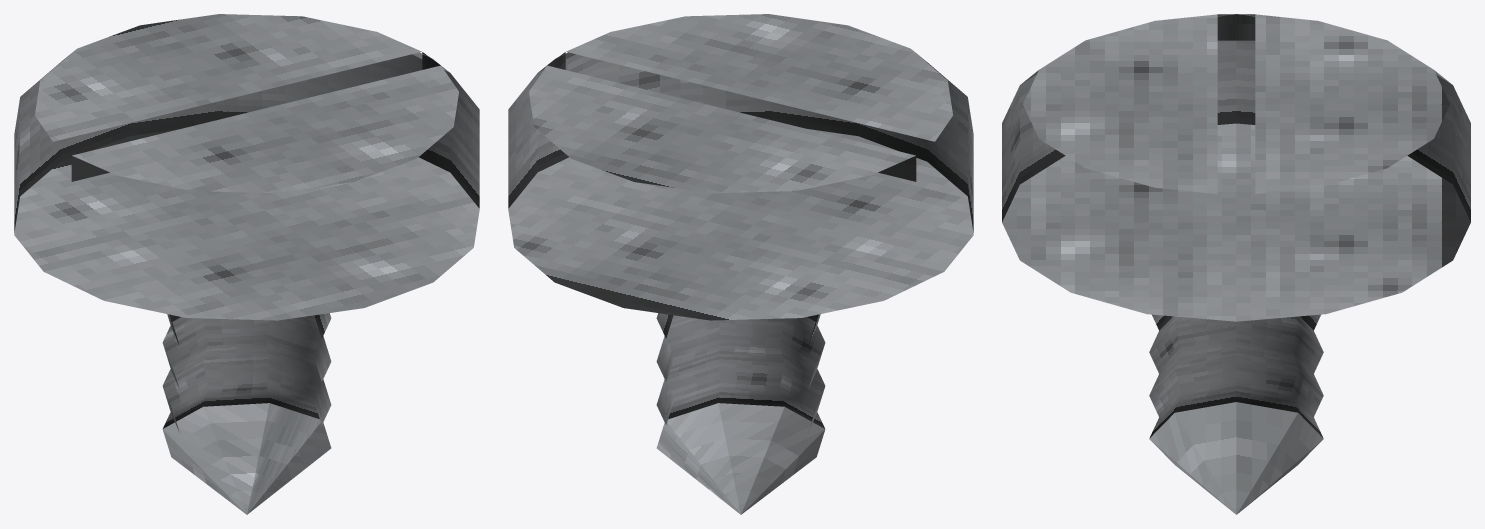
File: Screw.glb
3 renders of one model, left to right at view 1: azimuth 30°, elevation 25°; view 2: azimuth 150°, elevation 25°; view 3: azimuth 270°, elevation 25°, orthographic.
Parts seen in each view (by area): view 1: Screw; view 2: Screw; view 3: Screw.
Part boxes in pixels (<box>): Screw: <box>14,14,479,514</box>; Screw: <box>508,14,973,514</box>; Screw: <box>1002,14,1470,514</box>.
Size of the model in its own units: 0.4302 by 0.4157 by 0.4302.
Materials: 1 (1 with a texture image).
